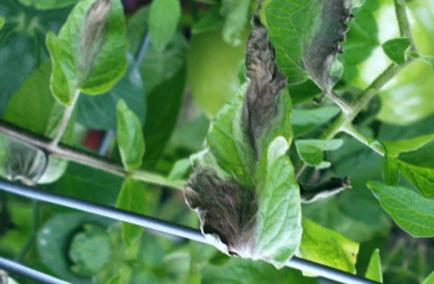Tomato leaf late blight: (166, 0, 369, 276), (20, 0, 168, 123), (219, 1, 369, 110)
